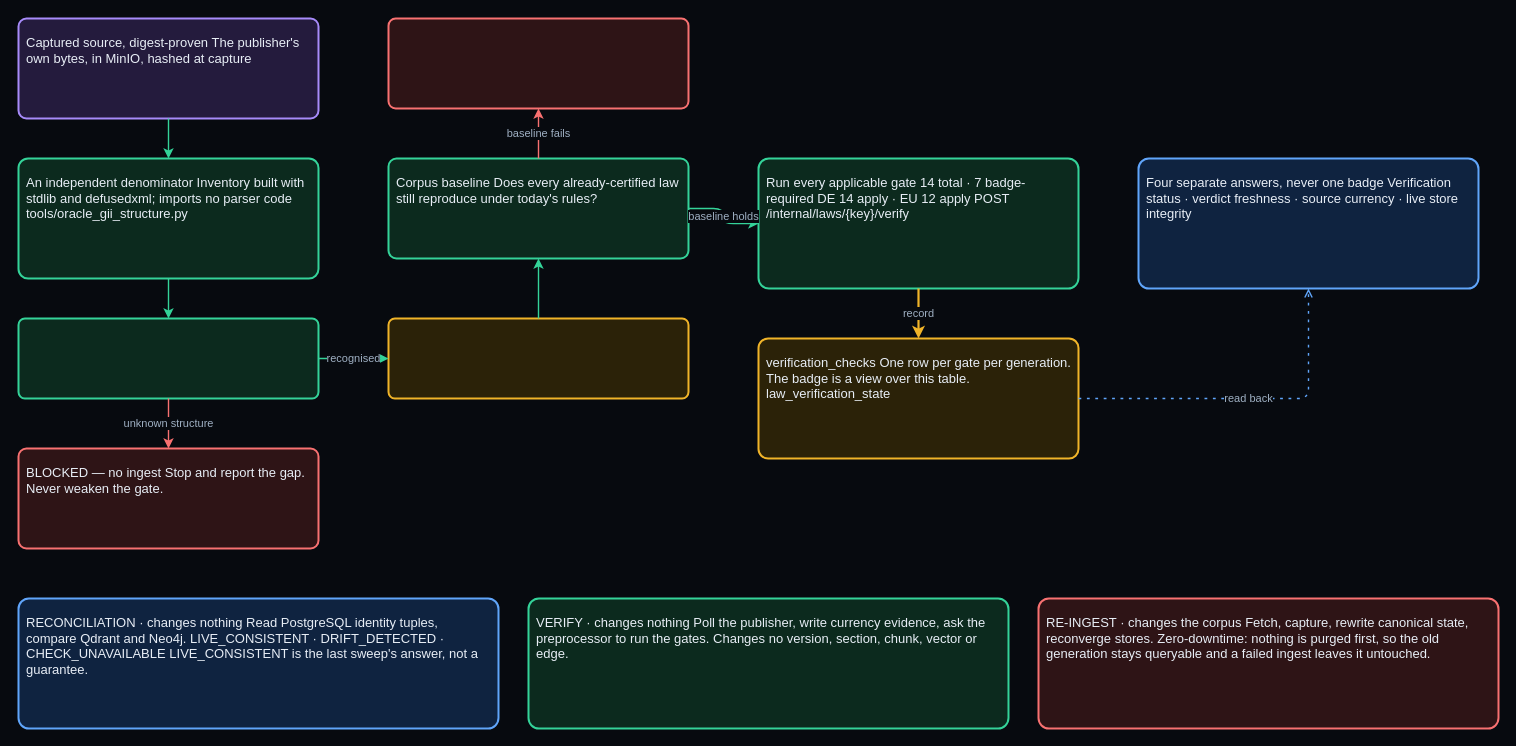
This 1516x746 diagram has some shape labels left out. Here are the shapes that lost their labels. From the top down, the centre of each, then its label:
pixel 538 63: No verdict for ANY law Including the one being certified
pixel 168 358: Pre-flight Is this structure recognised?
pixel 538 358: Ingest, then store PostgreSQL, then Qdrant + Neo4j
